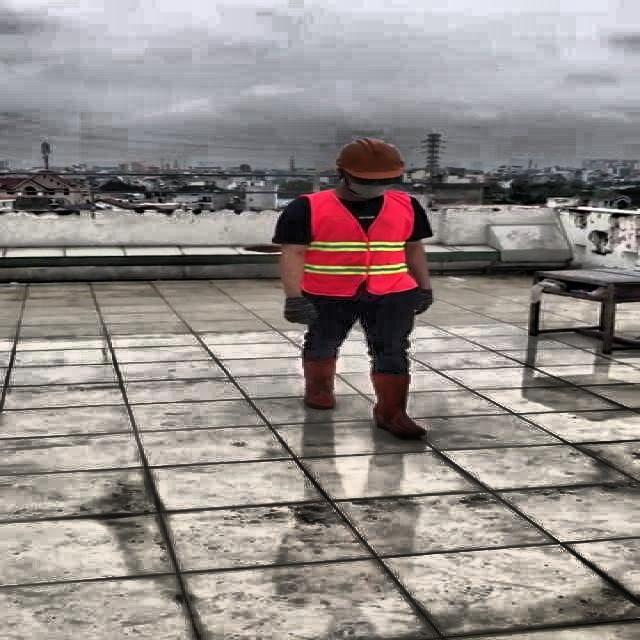safety_helmet: (337, 140, 410, 183)
safety_jacket: (300, 193, 420, 295)
